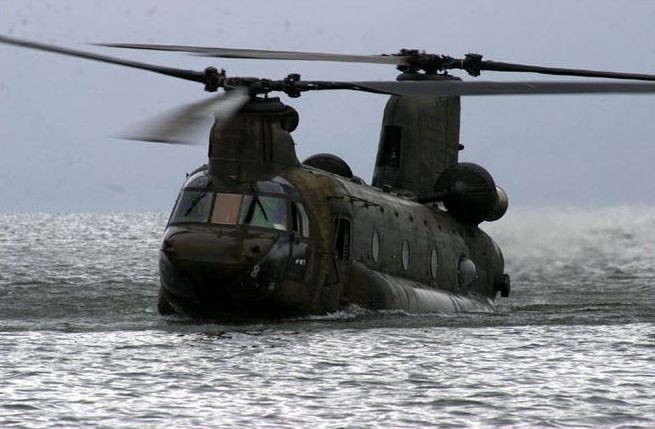chinook: (117, 32, 529, 330)
